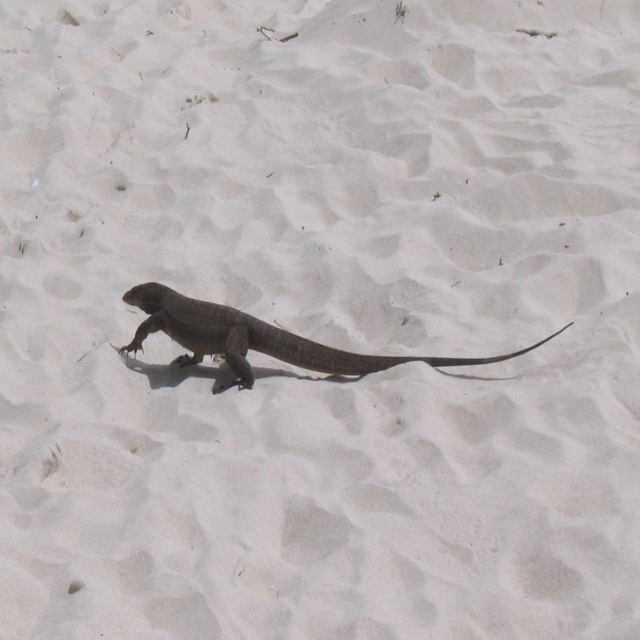Lizard: (120, 278, 575, 385)
